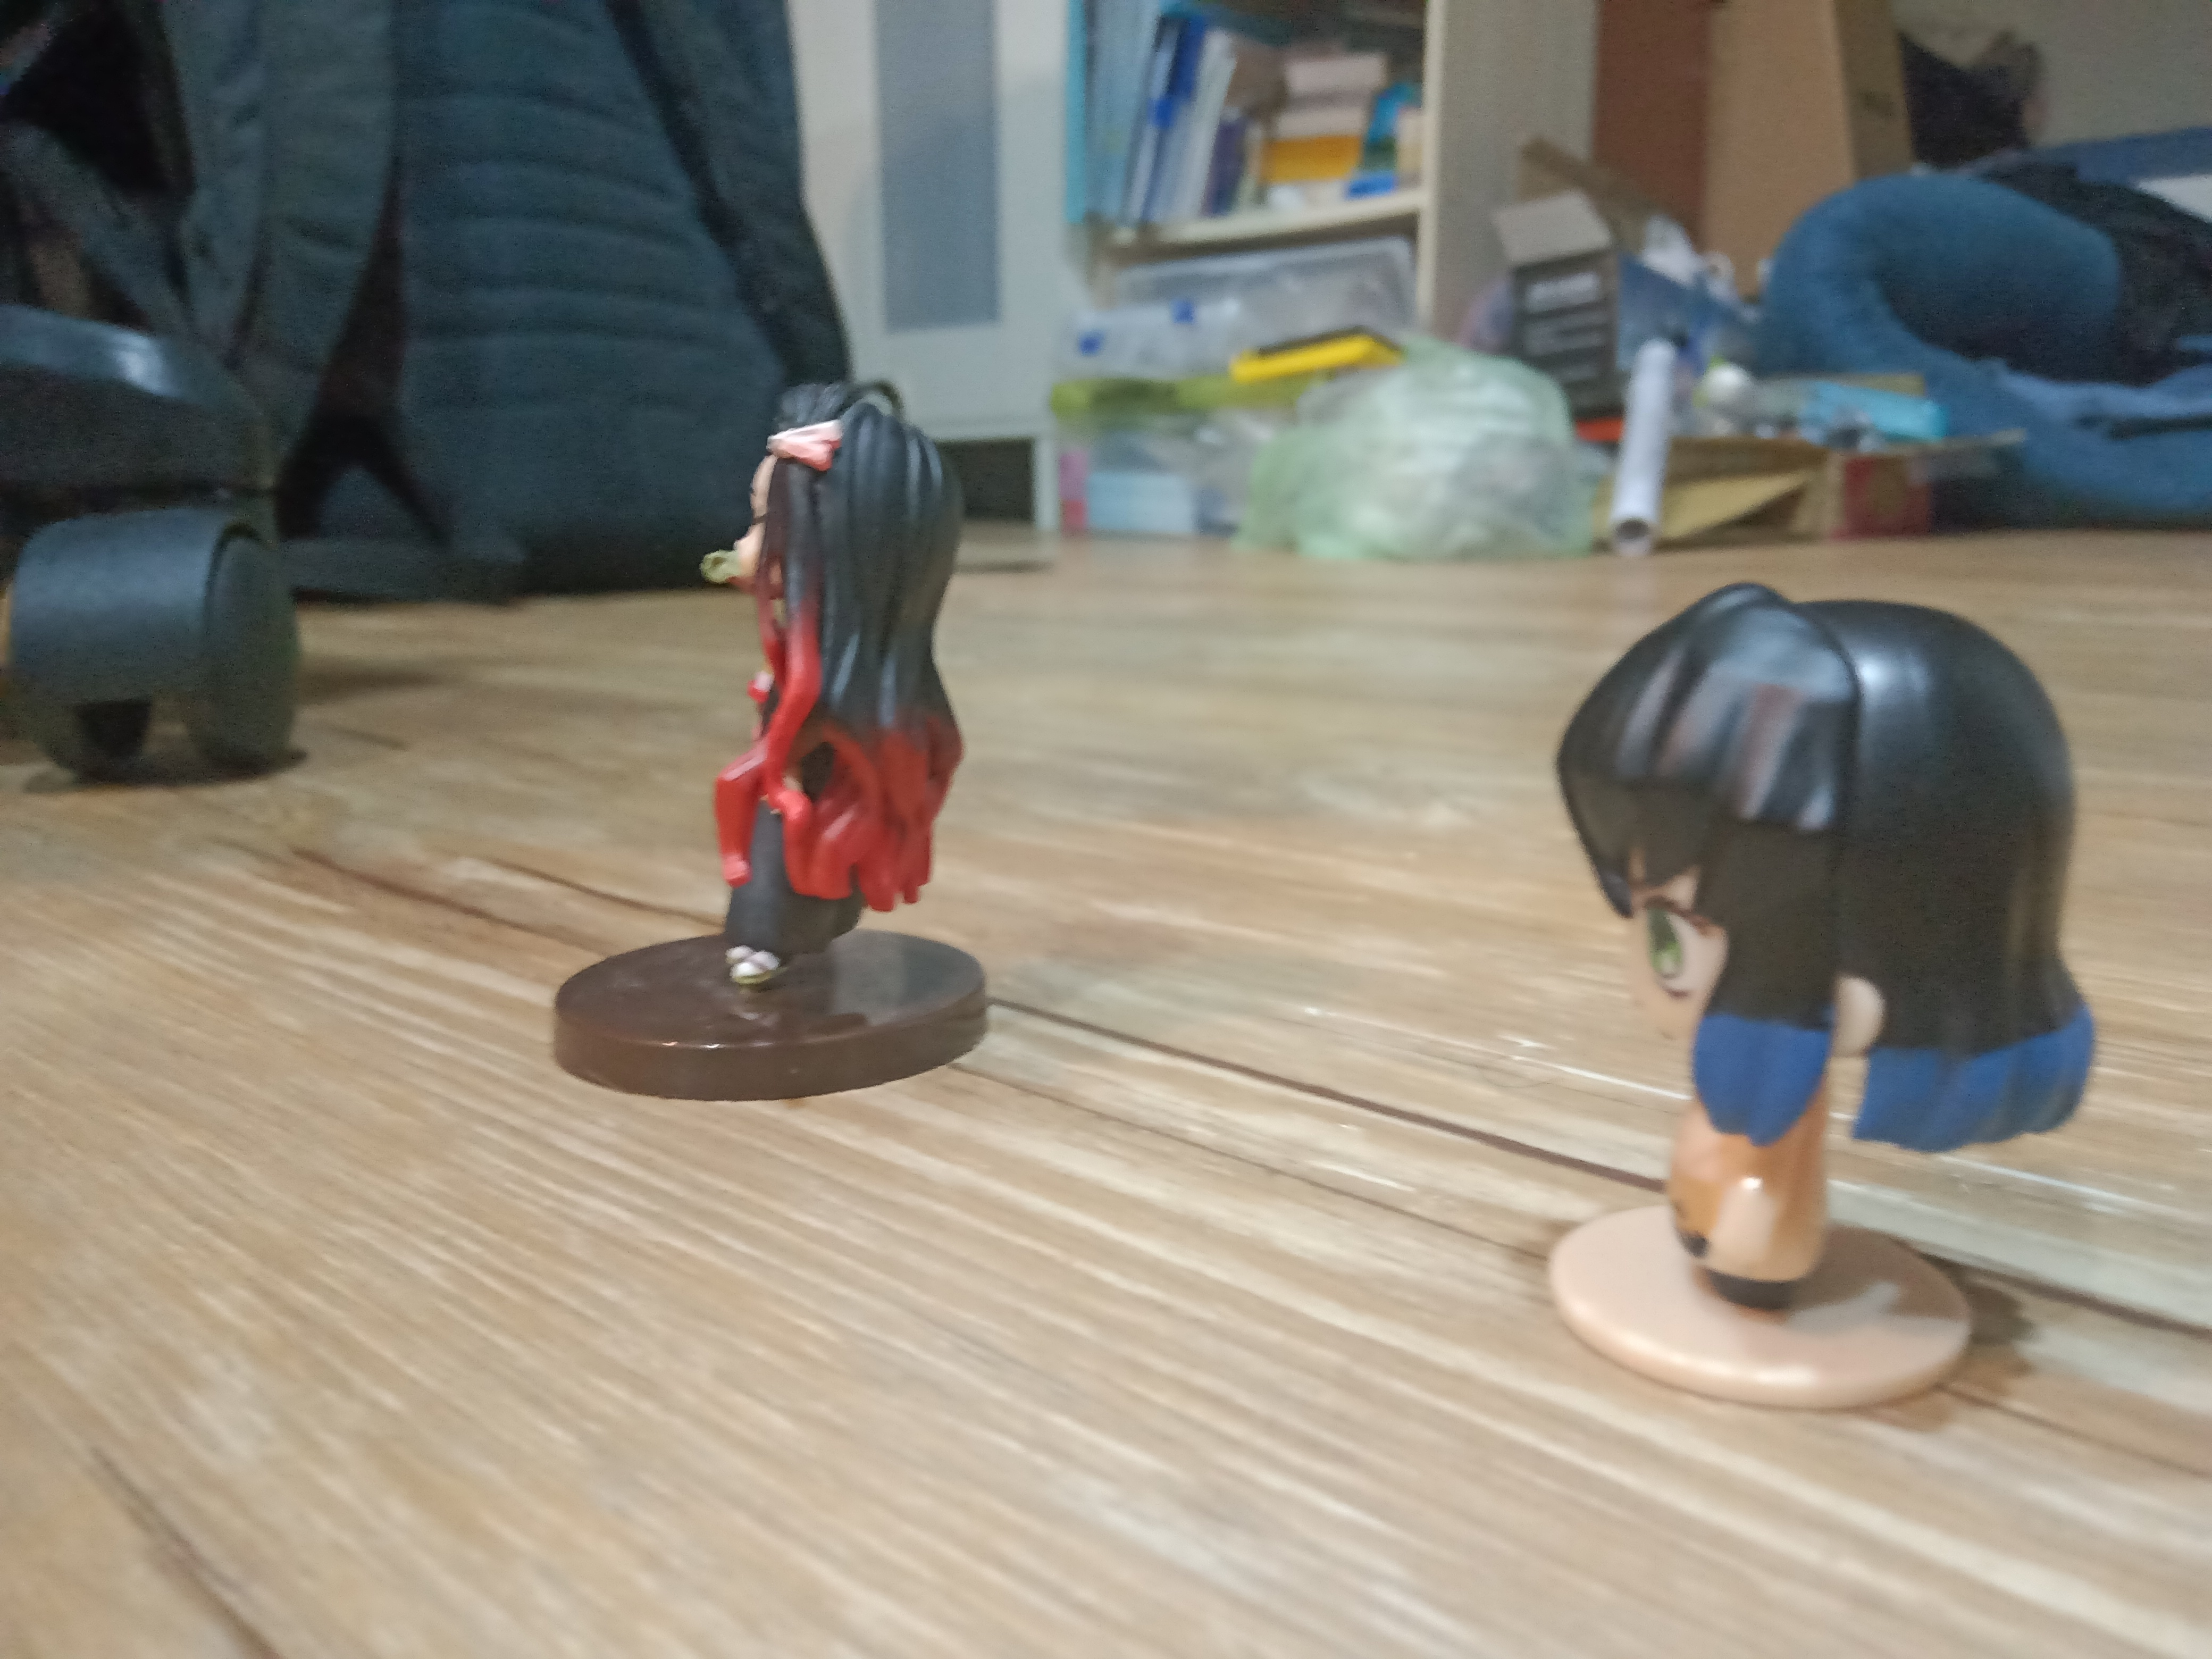Inosuke: (1515, 566, 2120, 1431)
Nezuko: (524, 355, 1010, 1115)
